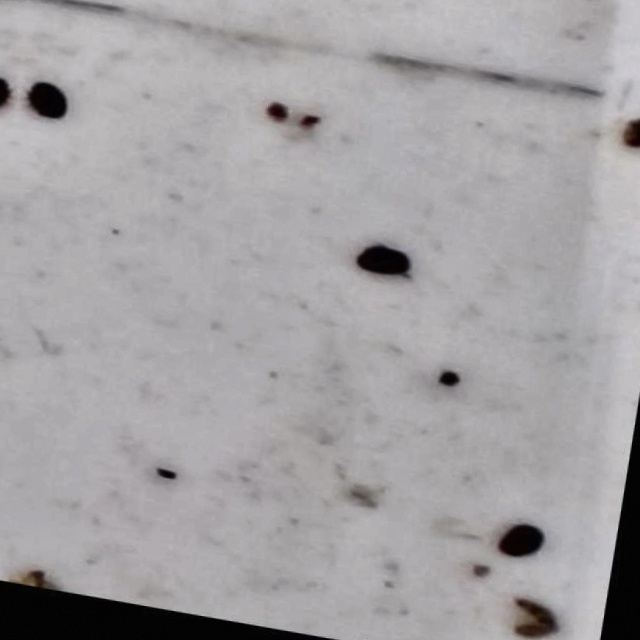varroa: (351, 243, 419, 289), (498, 520, 555, 567), (23, 89, 72, 130)
